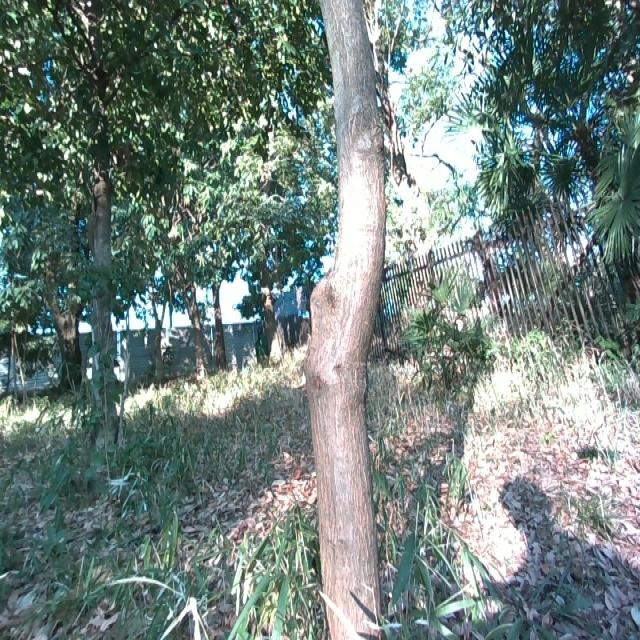artifact: (340, 179, 640, 360)
bush: (0, 319, 299, 388)
tree: (285, 1, 403, 640), (79, 120, 135, 433), (171, 146, 215, 392), (36, 260, 89, 396)
